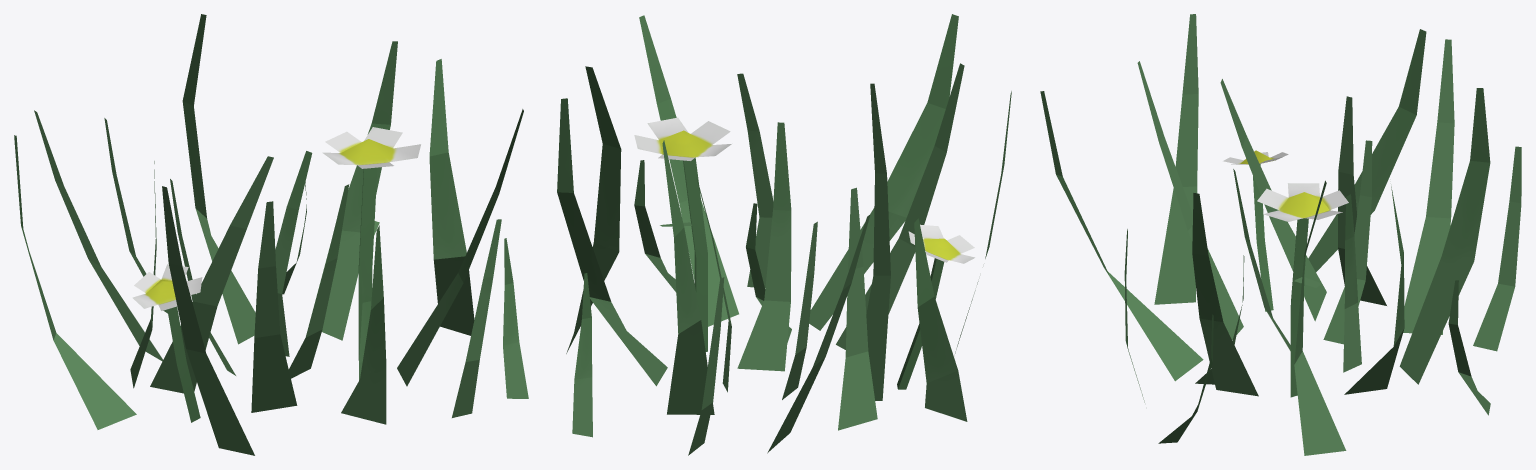
The model's file is grass_clump2.fbx.
3 renders of one model, left to right at view 1: azimuth 30°, elevation 25°; view 2: azimuth 150°, elevation 25°; view 3: azimuth 270°, elevation 25°, orthographic. The views are drawn at different scales.
Visible parts, largest first — view 1: grassClump2; view 2: grassClump2; view 3: grassClump2.
Part boxes in pixels (x1,y1,x2,y2): grassClump2: [14, 14, 528, 455]; grassClump2: [557, 14, 1011, 455]; grassClump2: [1040, 14, 1521, 455].
Size of the model in its own units: 4.61 by 3.32 by 5.01.
1 material, 1 textured.
